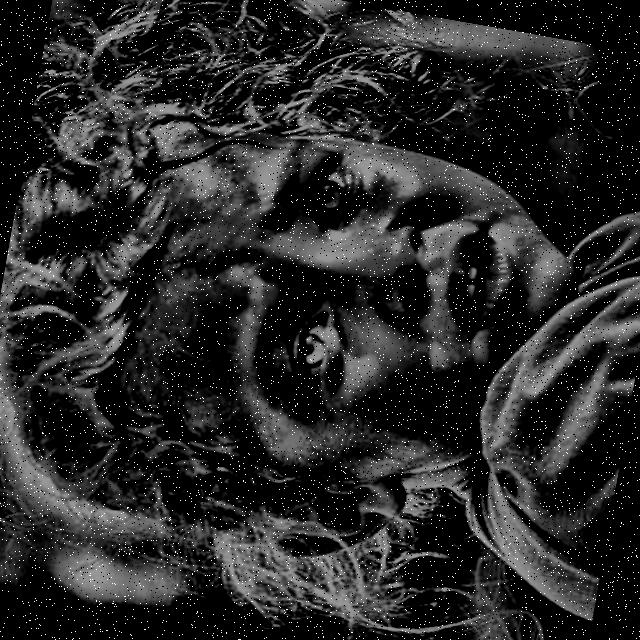sad: (0, 33, 571, 603)
